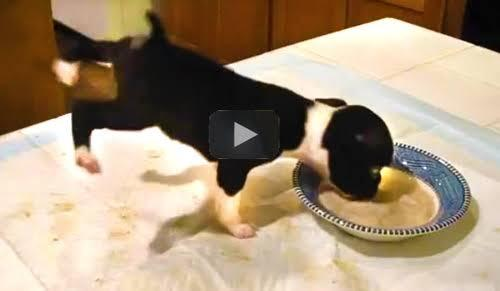puppy-dog: (46, 13, 396, 238)
